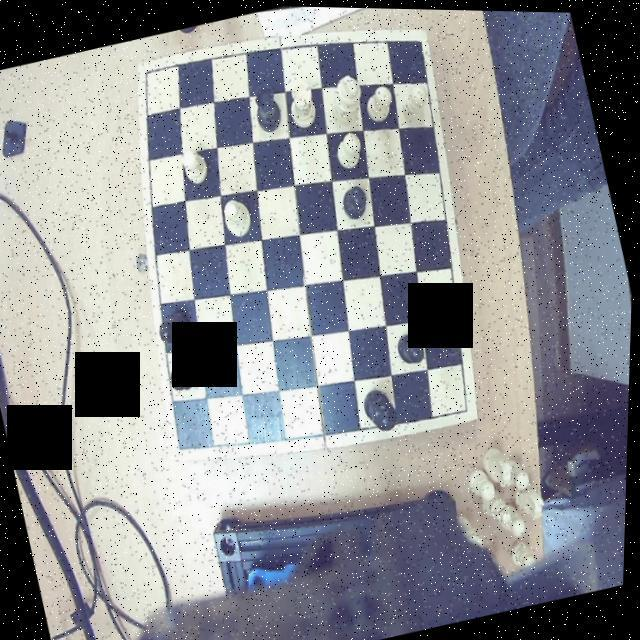chess-table-corners: (170, 428, 200, 460), (452, 394, 479, 424), (408, 26, 432, 58), (137, 57, 163, 84)
